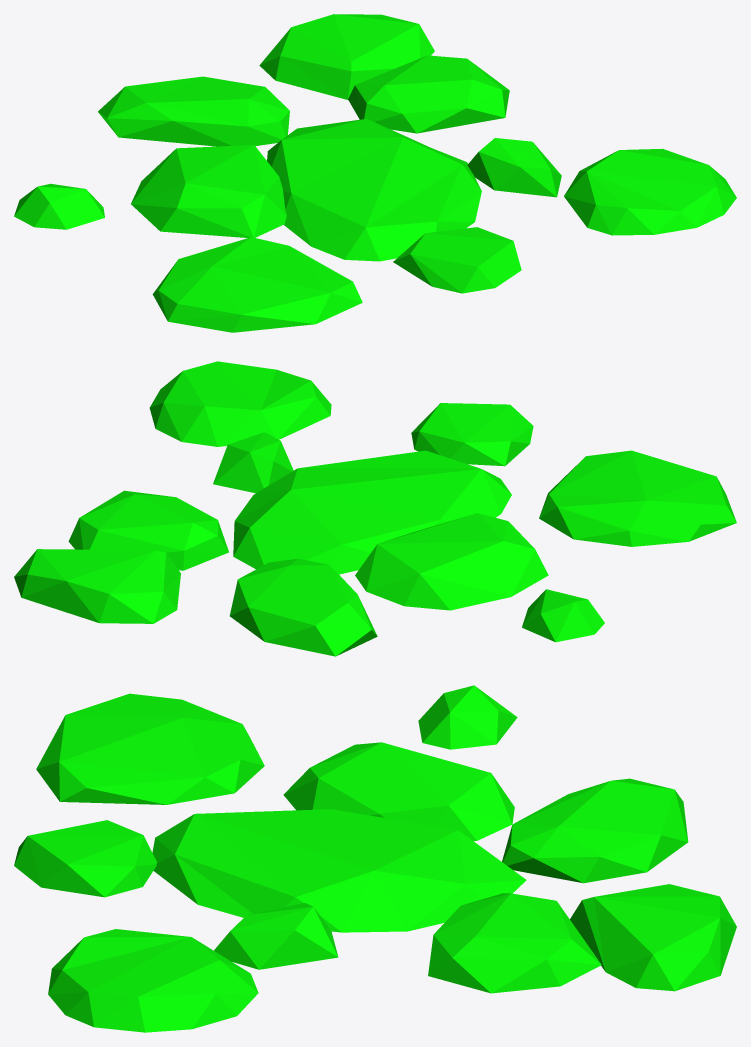
The model's file is SM_Ground_Pavement_C_Fantasy.fbx.
The picture shows the model from 3 angles, top to bottom: view 1: azimuth 30°, elevation 25°; view 2: azimuth 150°, elevation 25°; view 3: azimuth 270°, elevation 25°; orthographic projection. The views are drawn at different scales.
Parts seen in each view (by area): view 1: ground-pavement-c-fantasy; view 2: ground-pavement-c-fantasy; view 3: ground-pavement-c-fantasy.
Boxes of the visible parts, left/top/right/bottom form: ground-pavement-c-fantasy: left=14, top=14, right=736, bottom=332; ground-pavement-c-fantasy: left=14, top=361, right=736, bottom=656; ground-pavement-c-fantasy: left=14, top=685, right=736, bottom=1032.
Size of the model in its own units: 1.57 by 0.0914 by 1.45.
